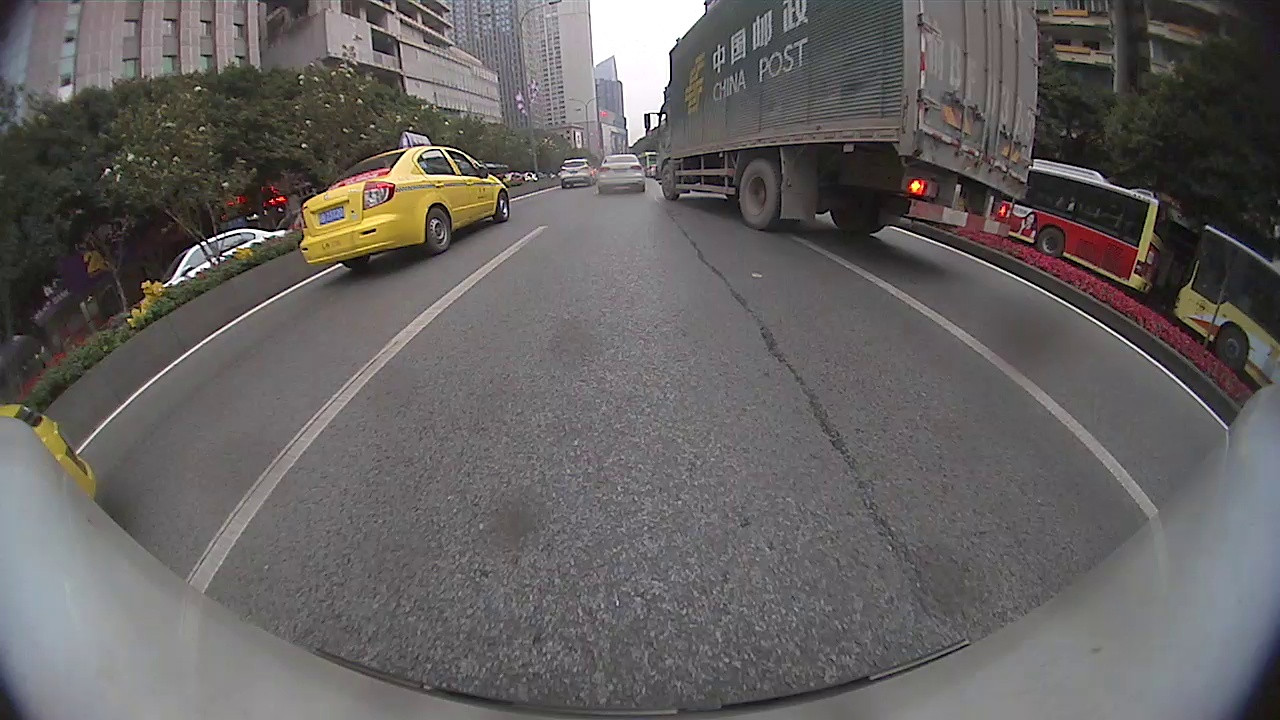bus: (1010, 153, 1175, 288), (1175, 226, 1278, 385)
car: (296, 131, 512, 272), (154, 228, 288, 290), (596, 152, 647, 195), (560, 157, 594, 193)
front: (1211, 323, 1250, 373), (661, 161, 681, 203), (494, 190, 509, 224)
rear: (737, 158, 790, 228), (425, 206, 452, 255), (1036, 226, 1066, 257)
truck: (659, 1, 1041, 230)
